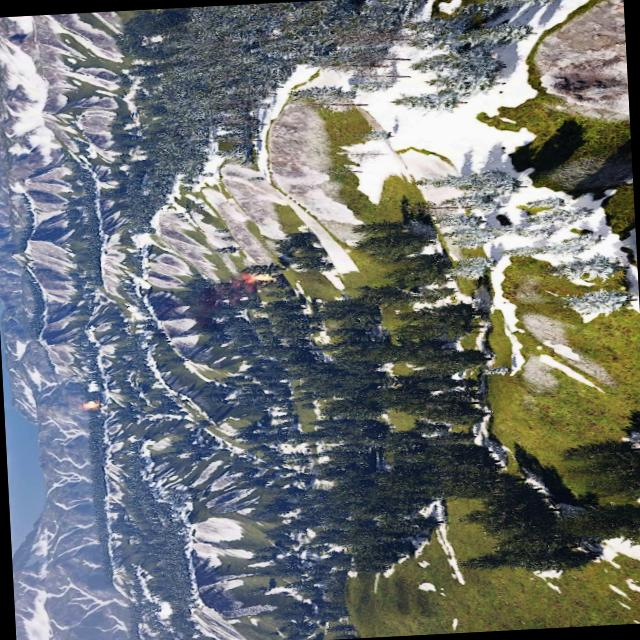fire: (248, 272, 274, 283), (82, 399, 98, 409)
smoke: (189, 274, 253, 312), (42, 396, 86, 416)
